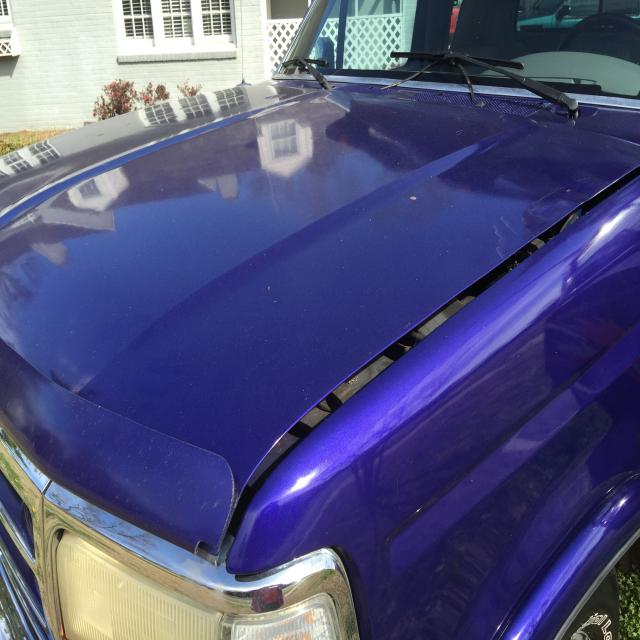misalignment: (216, 165, 640, 575)
